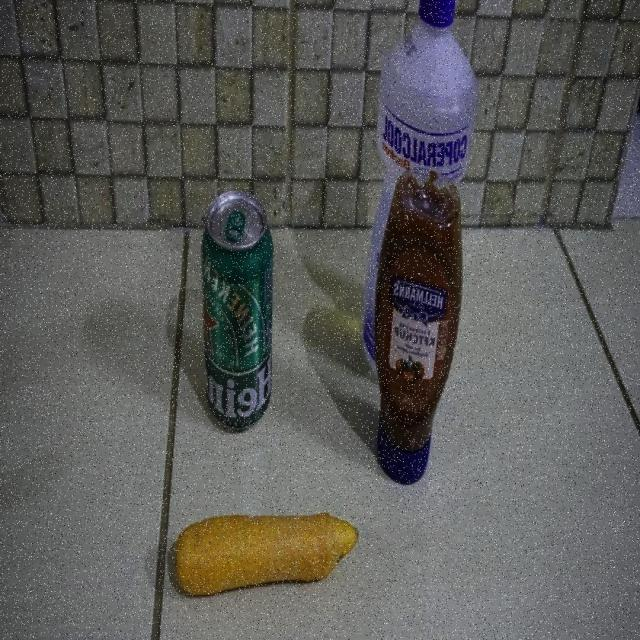AlcoholBottle: (361, 0, 477, 373)
BeerCan: (200, 188, 274, 430)
Carrot: (169, 512, 359, 596)
Ketchup: (372, 167, 462, 487)
